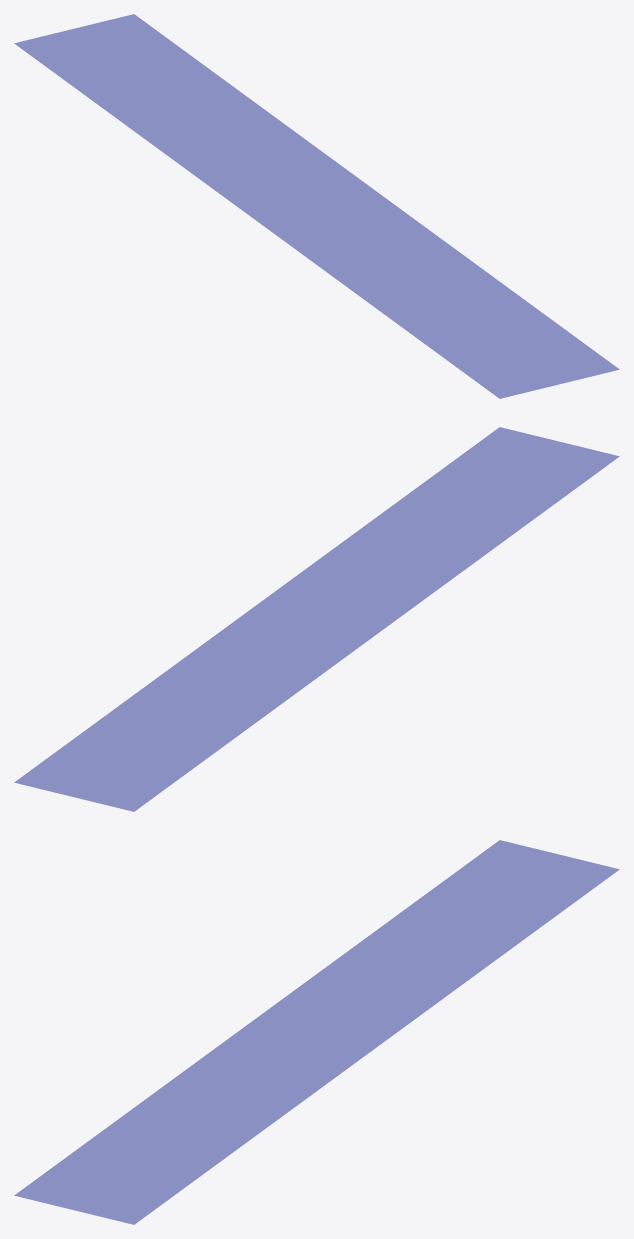
The model's file is Floor_1x_7x.FBX.
3 renders of one model, top to bottom at view 1: azimuth 30°, elevation 25°; view 2: azimuth 150°, elevation 25°; view 3: azimuth 330°, elevation 25°, orthographic.
Visible parts, largest first — view 1: Floor_1x_7x; view 2: Floor_1x_7x; view 3: Floor_1x_7x.
Boxes of the visible parts, bbox=[...] form: Floor_1x_7x: bbox=[14, 14, 619, 398]; Floor_1x_7x: bbox=[14, 427, 619, 811]; Floor_1x_7x: bbox=[14, 840, 619, 1224].
Size of the model in its own units: 100 by 700 by 3.06e-05.
